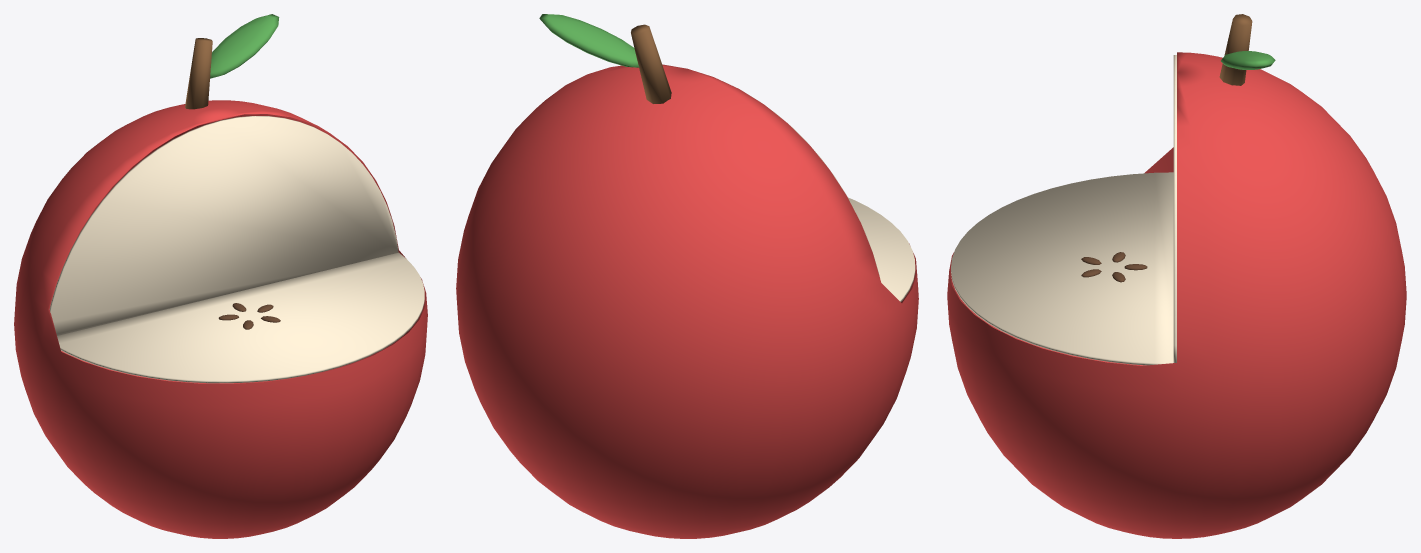
File: fruit-chair.glb
3 views of the same model, side by side, from view 1: azimuth 30°, elevation 25°; view 2: azimuth 150°, elevation 25°; view 3: azimuth 270°, elevation 25° (orthographic). The views are drawn at different scales.
Parts seen in each view (by area): view 1: chair; view 2: chair; view 3: chair.
Part boxes in pixels (<box>): chair: <box>14,14,427,538</box>; chair: <box>456,14,918,538</box>; chair: <box>947,14,1406,538</box>.
Size of the model in its own units: 0.84 by 1.02 by 0.84.
